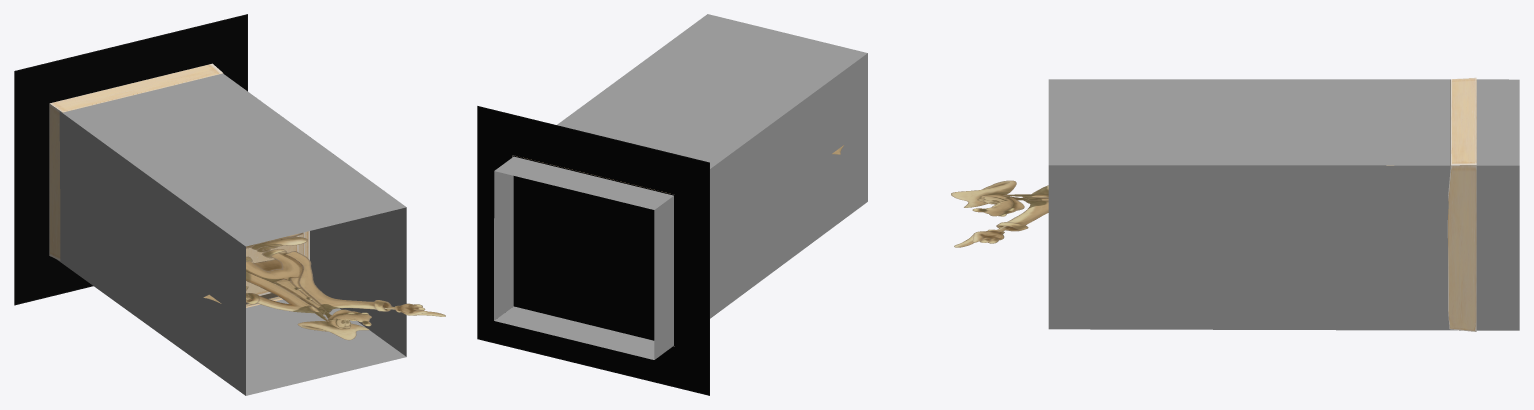
The model's file is statue.fbx.
The picture shows the model from 3 angles, left to right: view 1: azimuth 30°, elevation 25°; view 2: azimuth 150°, elevation 25°; view 3: azimuth 270°, elevation 25°; orthographic projection. The views are drawn at different scales.
Parts seen in each view (by area): view 1: colli, shadow, billboard, base, o1, o2; view 2: colli, shadow; view 3: colli, base, billboard.
Boxes of the visible parts, x1=… form: colli: x1=57, y1=73, x2=406, y2=395; shadow: x1=14, y1=14, x2=247, y2=305; billboard: x1=203, y1=232, x2=445, y2=340; base: x1=50, y1=63, x2=309, y2=307; o1: x1=49, y1=103, x2=84, y2=260; o2: x1=246, y1=235, x2=298, y2=295; colli: x1=494, y1=14, x2=867, y2=359; shadow: x1=477, y1=106, x2=709, y2=395; colli: x1=1048, y1=79, x2=1519, y2=330; base: x1=1386, y1=77, x2=1476, y2=331; billboard: x1=951, y1=180, x2=1048, y2=247.
Size of the model in its own units: 421 by 404 by 811.
Materials: 5 (4 with a texture image).
